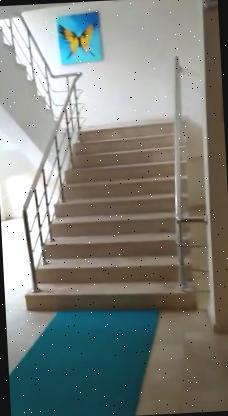stair: (19, 111, 202, 333)
